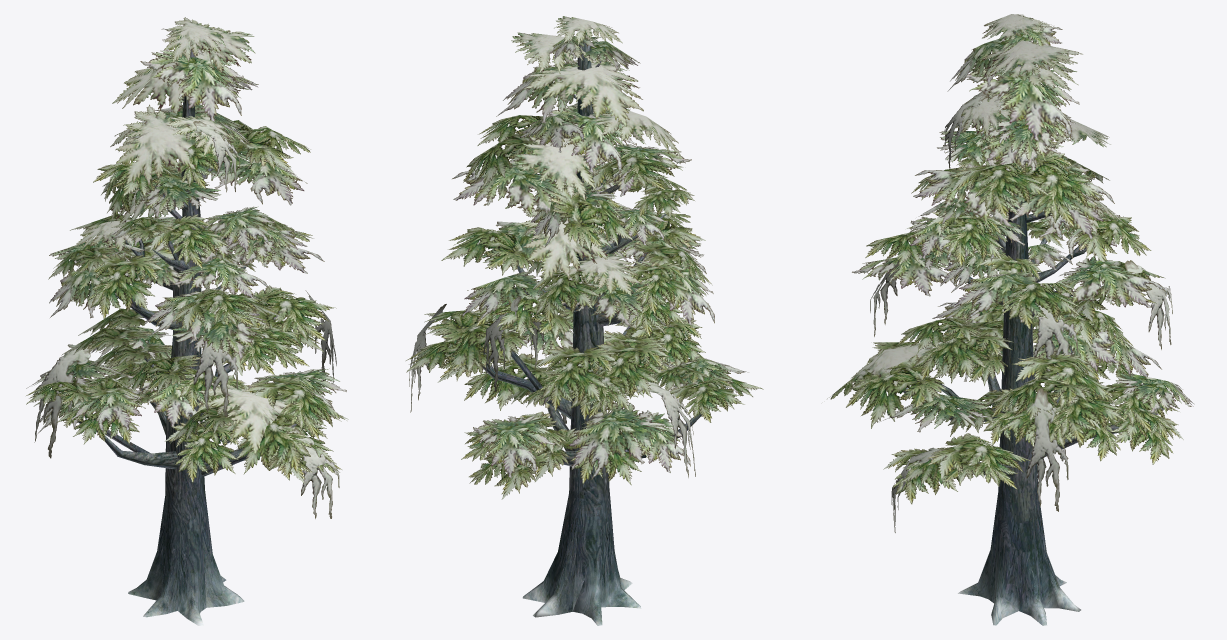
The picture shows the model from 3 angles, left to right: view 1: azimuth 30°, elevation 25°; view 2: azimuth 150°, elevation 25°; view 3: azimuth 270°, elevation 25°; orthographic projection. The views are drawn at different scales.
Parts seen in each view (by area): view 1: Object002, Object003; view 2: Object002, Object003; view 3: Object002, Object003.
Boxes of the visible parts, <box> form: Object002: <box>26,17,348,518</box>; Object003: <box>77,50,296,625</box>; Object002: <box>406,16,763,499</box>; Object003: <box>439,38,727,625</box>; Object002: <box>827,14,1194,532</box>; Object003: <box>903,32,1174,625</box>.
Size of the model in its own units: 12.78 by 20.53 by 12.84.
